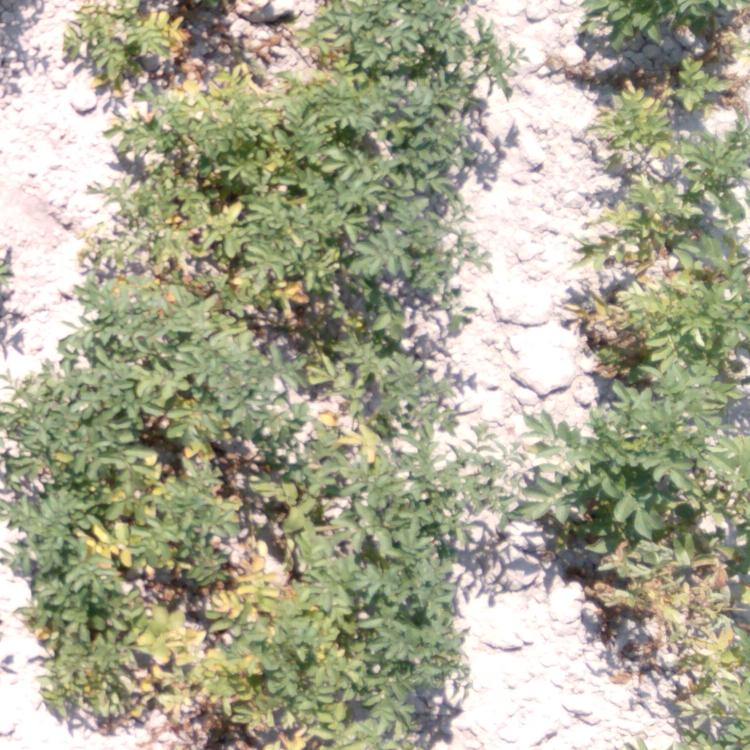healthy: (585, 413, 747, 534), (366, 571, 456, 746), (461, 419, 580, 537), (303, 1, 505, 67), (391, 68, 489, 201), (381, 406, 461, 566), (396, 201, 487, 319), (575, 1, 749, 55), (5, 369, 122, 431), (46, 315, 125, 363)
stressed: (130, 569, 367, 747), (1, 433, 287, 566), (84, 190, 395, 312), (112, 72, 386, 192), (600, 57, 750, 250), (572, 253, 748, 412), (579, 530, 750, 652), (17, 565, 128, 735), (255, 313, 446, 402), (131, 315, 255, 436), (291, 408, 378, 566), (54, 1, 212, 81), (678, 655, 750, 747)
